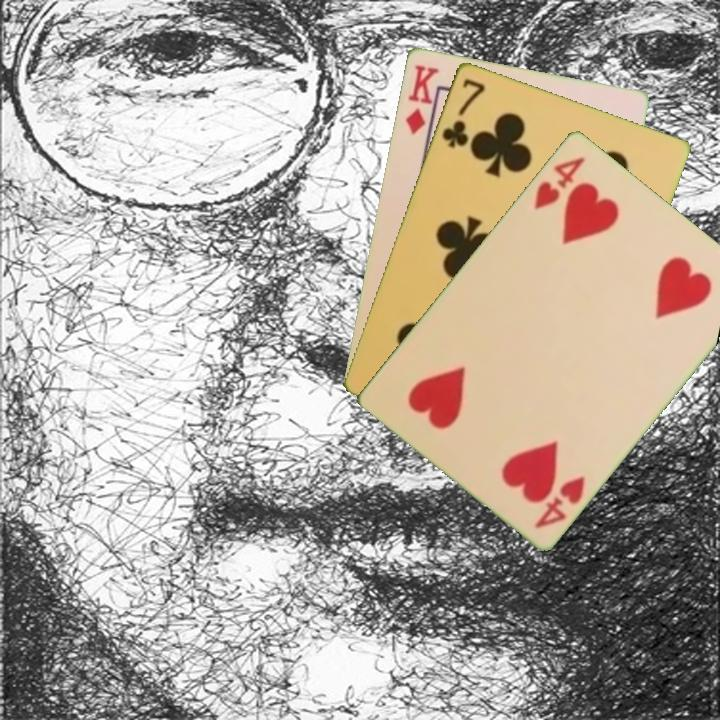4h: (530, 152, 588, 212), (531, 472, 588, 531)
7c: (438, 74, 488, 150)
Kd: (401, 60, 442, 137)
